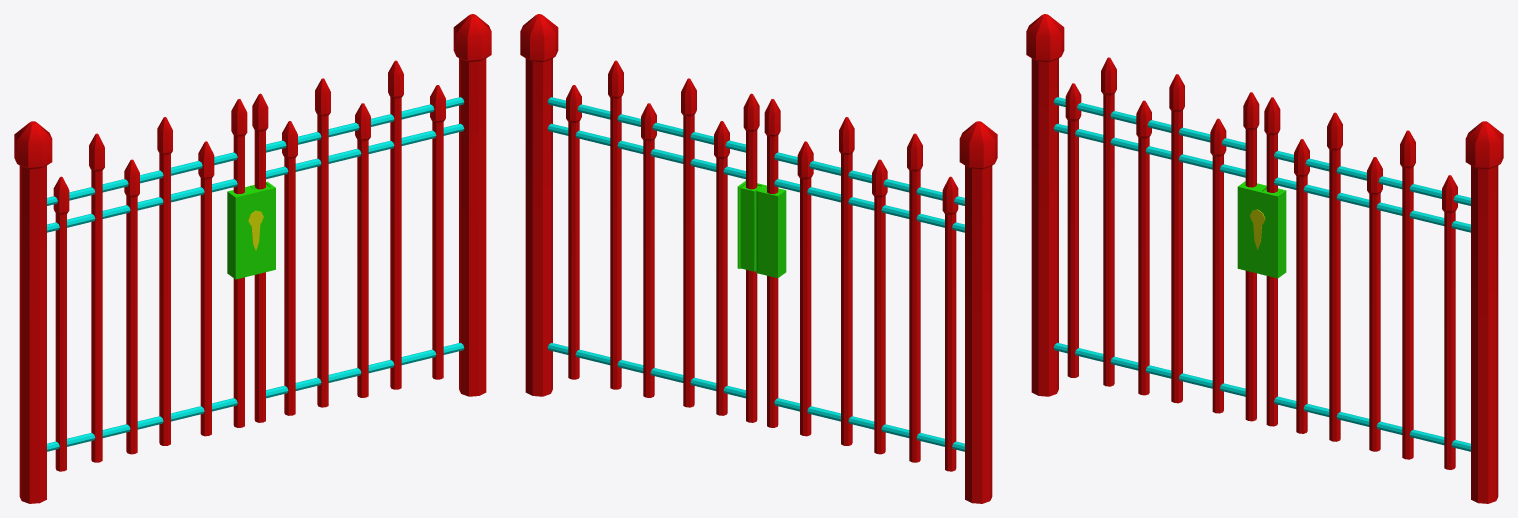
File: OutFenceDoor.fbx
The picture shows the model from 3 angles, left to right: view 1: azimuth 30°, elevation 25°; view 2: azimuth 150°, elevation 25°; view 3: azimuth 330°, elevation 25°; orthographic projection.
Parts seen in each view (by area): view 1: pCube23, pCube20, pCube34, pCube24, pCube25, pCube32, pCube41, pCube29, pCube36, pCube35, pCube31, pCube26 (+9 smaller); view 2: pCube23, pCube20, pCube25, pCube34, pCube24, pCube32, pCube29, pCube36, pCube31, pCube35, pCube26, pCube33 (+10 smaller); view 3: pCube20, pCube23, pCube41, pCube32, pCube24, pCube34, pCube25, pCube36, pCube29, pCube33, pCube31, pCube26 (+9 smaller).
Part boxes in pixels (<box>): pCube23: <box>14,121,52,503</box>; pCube20: <box>453,14,491,396</box>; pCube34: <box>315,78,330,407</box>; pCube24: <box>89,133,104,462</box>; pCube25: <box>388,60,403,389</box>; pCube32: <box>157,117,172,445</box>; pCube41: <box>227,181,275,279</box>; pCube29: <box>198,141,214,436</box>; pCube36: <box>53,176,69,471</box>; pCube35: <box>430,85,445,379</box>; pCube31: <box>124,159,139,454</box>; pCube26: <box>355,103,370,397</box>; pCube23: <box>959,121,997,503</box>; pCube20: <box>520,14,558,396</box>; pCube25: <box>608,60,623,389</box>; pCube34: <box>681,78,696,407</box>; pCube24: <box>907,133,922,462</box>; pCube32: <box>839,117,854,445</box>; pCube29: <box>797,141,813,436</box>; pCube36: <box>942,176,958,471</box>; pCube31: <box>872,159,887,454</box>; pCube35: <box>566,85,581,379</box>; pCube26: <box>641,103,656,397</box>; pCube33: <box>714,121,729,415</box>; pCube20: <box>1465,121,1503,503</box>; pCube23: <box>1026,14,1064,396</box>; pCube41: <box>1237,181,1286,278</box>; pCube32: <box>1169,74,1184,403</box>; pCube24: <box>1101,57,1116,386</box>; pCube34: <box>1327,112,1342,441</box>; pCube25: <box>1400,130,1415,459</box>; pCube36: <box>1065,83,1081,377</box>; pCube29: <box>1210,118,1226,413</box>; pCube33: <box>1294,139,1309,433</box>; pCube31: <box>1136,100,1151,395</box>; pCube26: <box>1367,157,1382,451</box>.
Bounding box in the file's own units: 11.72 × 8.91 × 0.8078.
